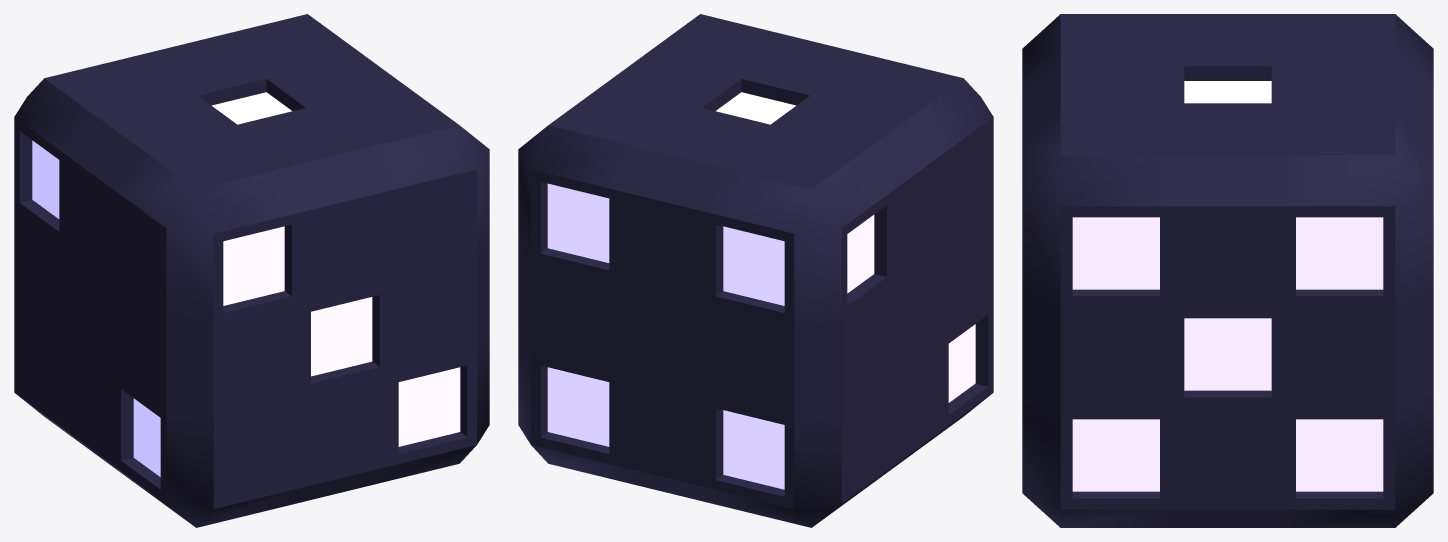
Rendered from Dice.fbx.
3 views of the same model, side by side, from view 1: azimuth 30°, elevation 25°; view 2: azimuth 150°, elevation 25°; view 3: azimuth 270°, elevation 25° (orthographic). The views are drawn at different scales.
Visible parts, largest first — view 1: Cube; view 2: Cube; view 3: Cube.
Part boxes in pixels (x1,y1,x2,y2): Cube: (14,14,489,527); Cube: (518,14,993,527); Cube: (1022,14,1433,527).
Size of the model in its own units: 200 by 200 by 200.
